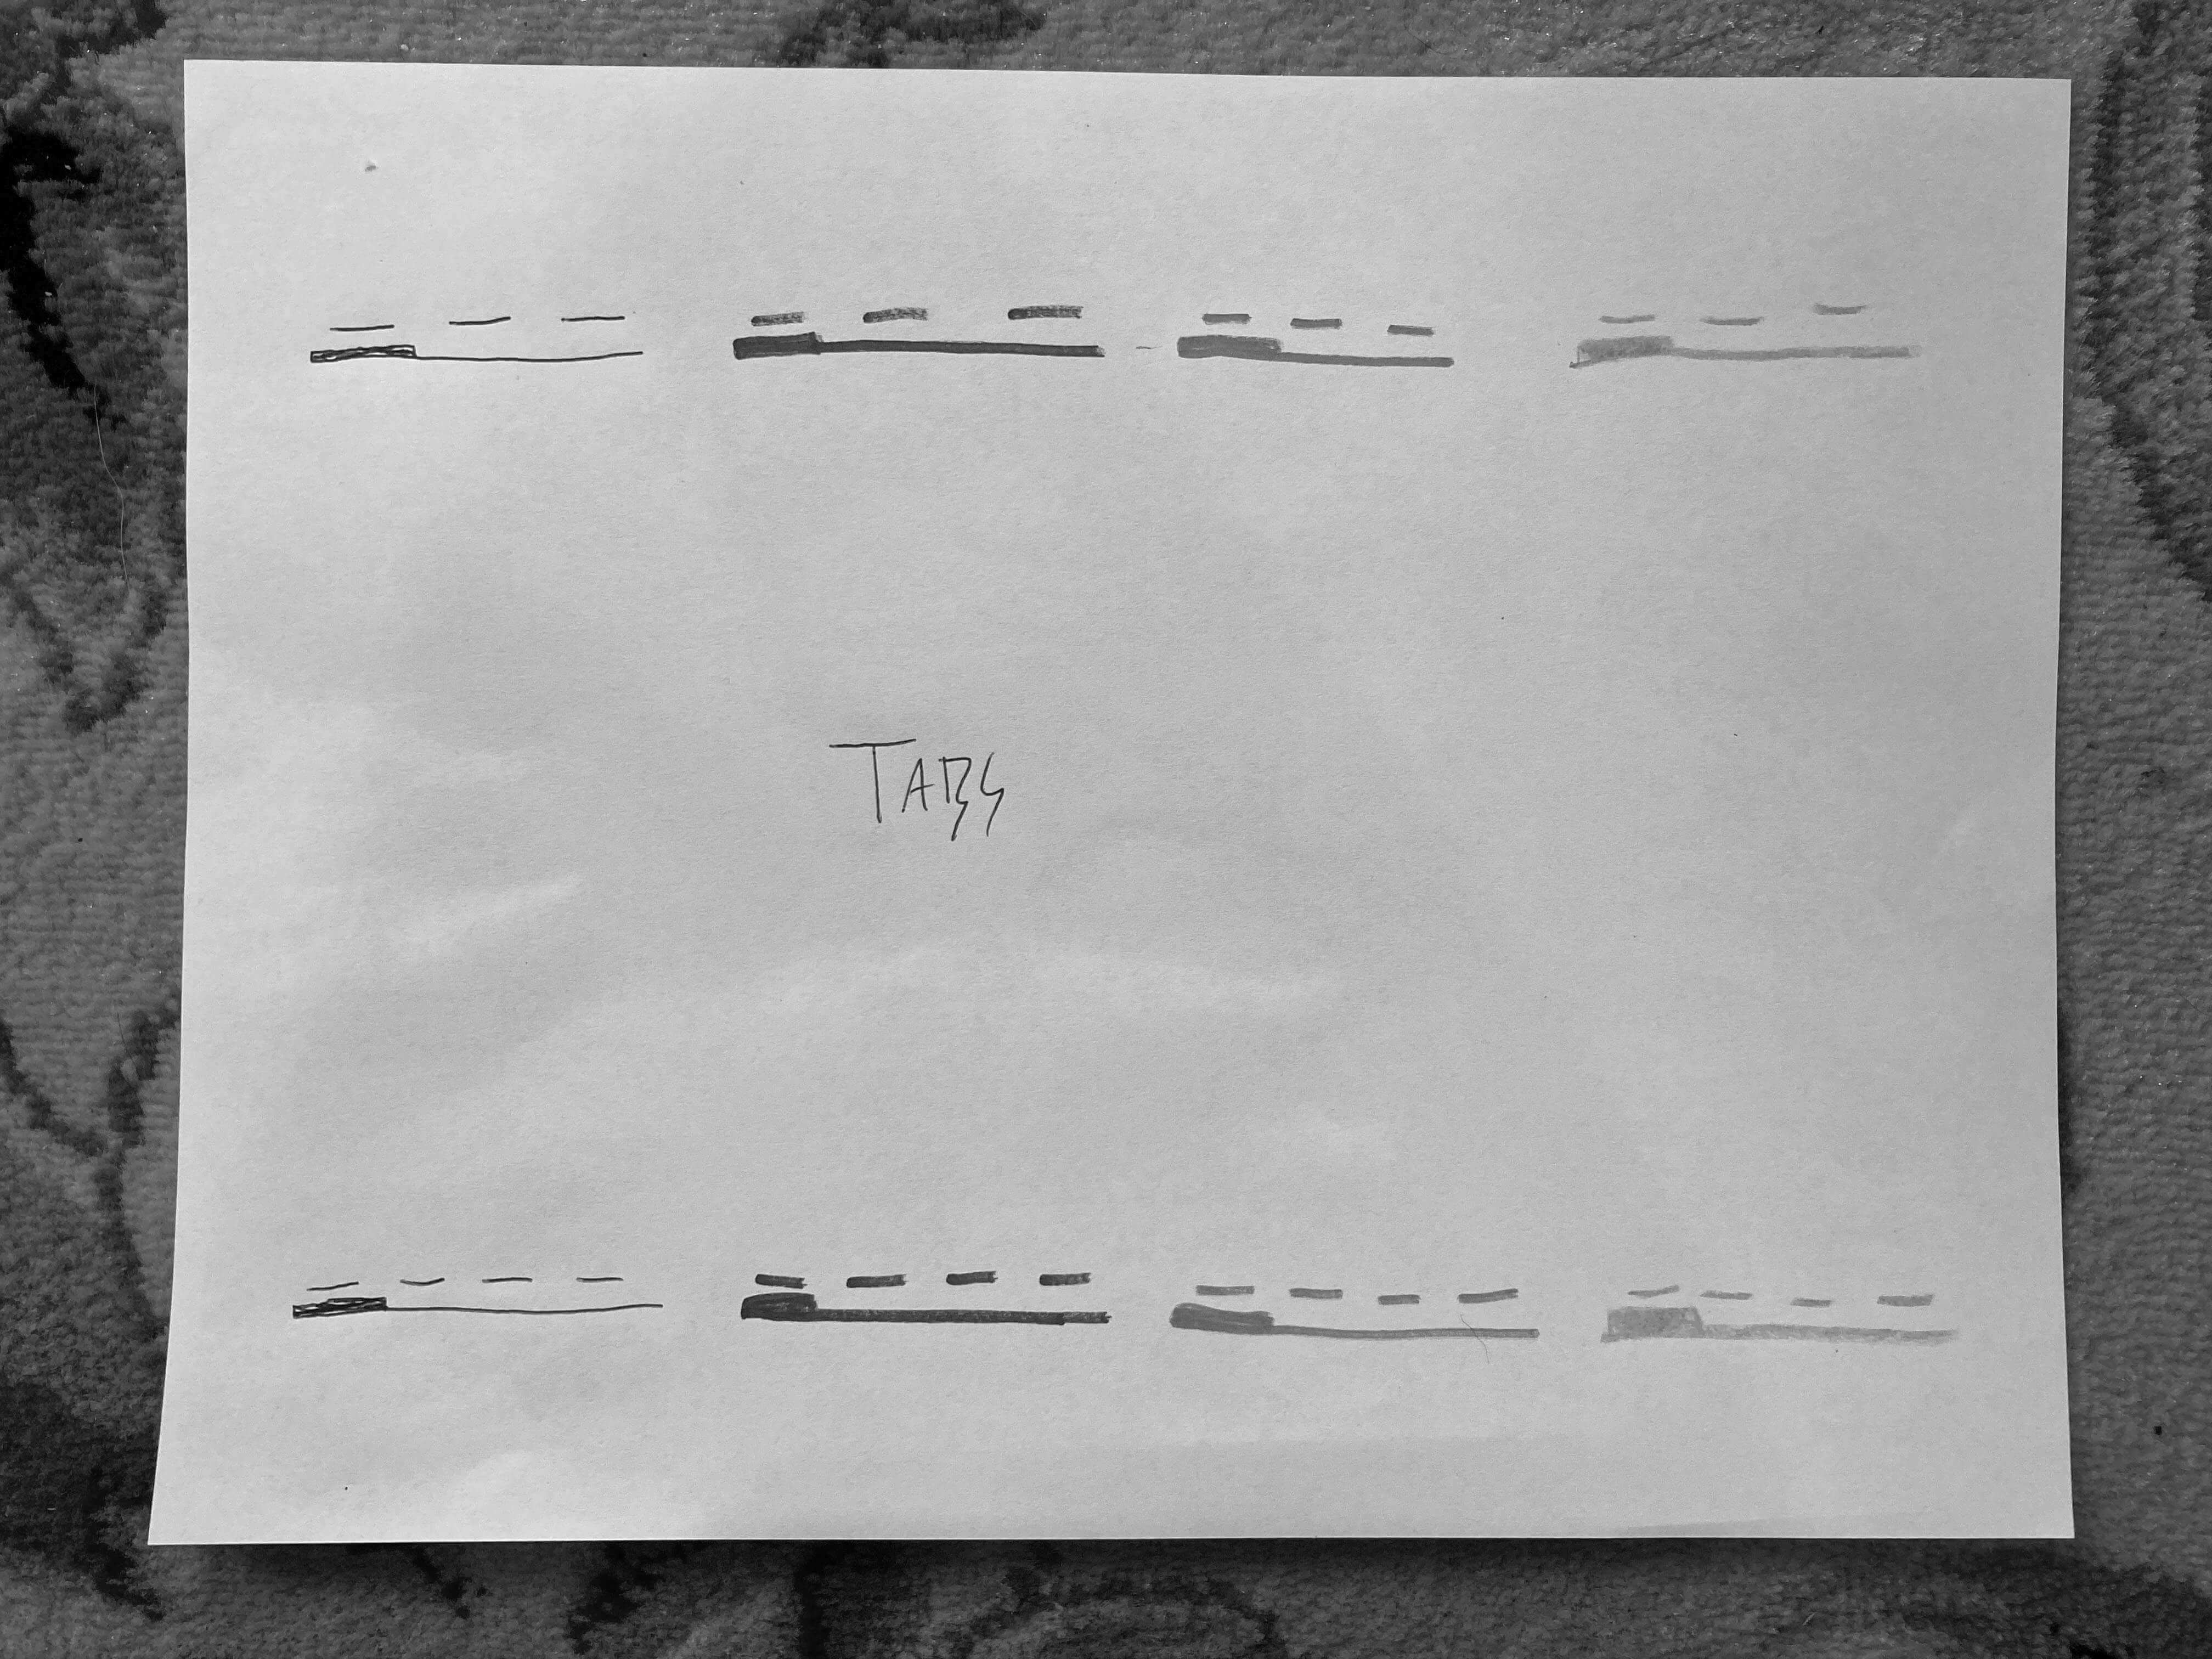tabs: (1590, 1251, 1963, 1366), (289, 1246, 669, 1342), (1160, 1258, 1545, 1352), (735, 289, 1123, 382), (1564, 291, 1923, 385), (742, 1243, 1113, 1333), (307, 298, 671, 389), (1174, 300, 1463, 383)
